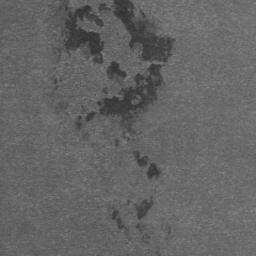Iron scale compression: (97, 0, 176, 139), (64, 5, 104, 60), (137, 197, 154, 221), (106, 62, 127, 78), (133, 151, 148, 167), (146, 164, 161, 180), (111, 211, 123, 230), (84, 112, 94, 124)
